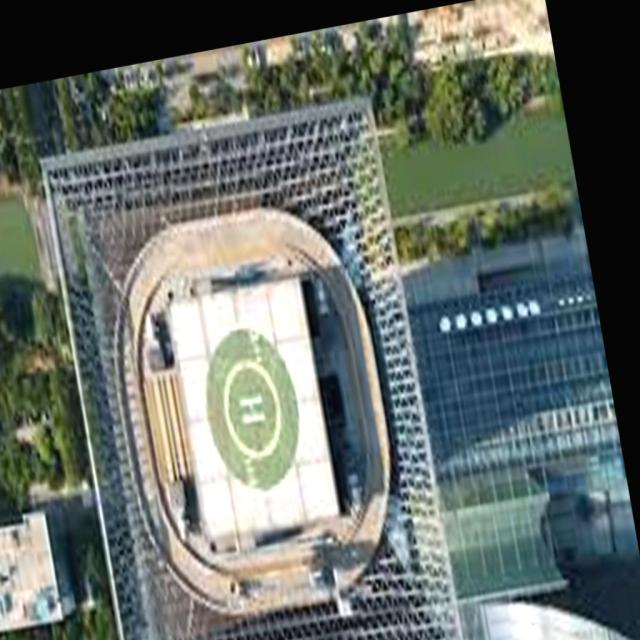helipad: (217, 352, 285, 460)
